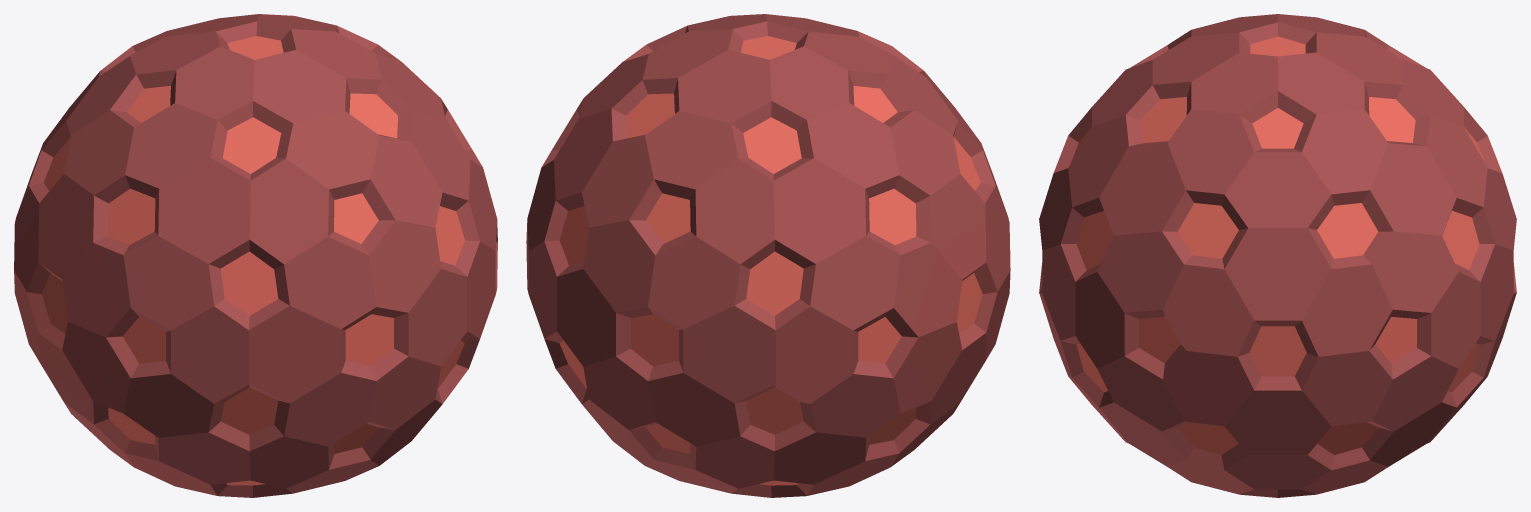
Rendered from trinketHorn2.fbx.
The picture shows the model from 3 angles, left to right: view 1: azimuth 30°, elevation 25°; view 2: azimuth 150°, elevation 25°; view 3: azimuth 270°, elevation 25°; orthographic projection.
Parts seen in each view (by area): view 1: trinketHorn2; view 2: trinketHorn2; view 3: trinketHorn2.
Part boxes in pixels (<box>): trinketHorn2: <box>14,14,497,497</box>; trinketHorn2: <box>526,14,1010,497</box>; trinketHorn2: <box>1039,14,1516,497</box>.
Size of the model in its own units: 0.9856 by 0.9856 by 0.9856.
1 material, 1 textured.
